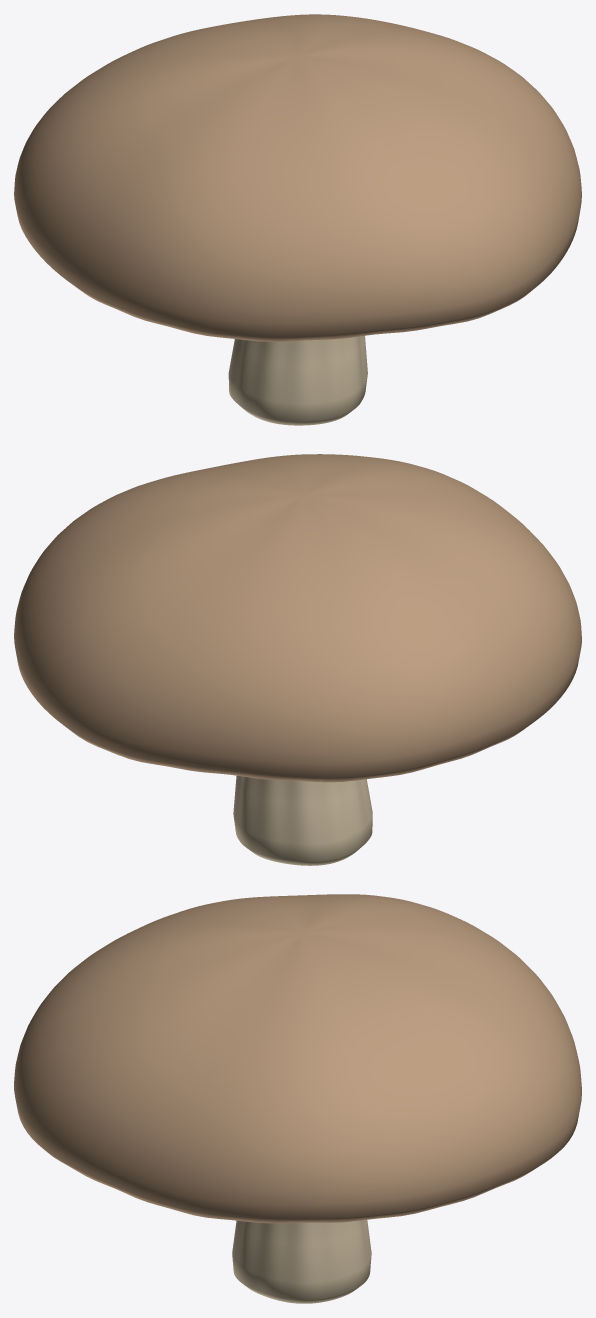
3 views of the same model, one above another, from view 1: azimuth 30°, elevation 25°; view 2: azimuth 150°, elevation 25°; view 3: azimuth 270°, elevation 25° (orthographic).
Parts seen in each view (by area): view 1: Whole organic mushroom continuous cap stem and radial unders; view 2: Whole organic mushroom continuous cap stem and radial unders; view 3: Whole organic mushroom continuous cap stem and radial unders.
Part boxes in pixels (x1,y1,x2,y2): Whole organic mushroom continuous cap stem and radial unders: (14, 14, 581, 425); Whole organic mushroom continuous cap stem and radial unders: (14, 454, 581, 865); Whole organic mushroom continuous cap stem and radial unders: (14, 894, 581, 1303).
Size of the model in its own units: 0.1 by 0.067 by 0.1.
